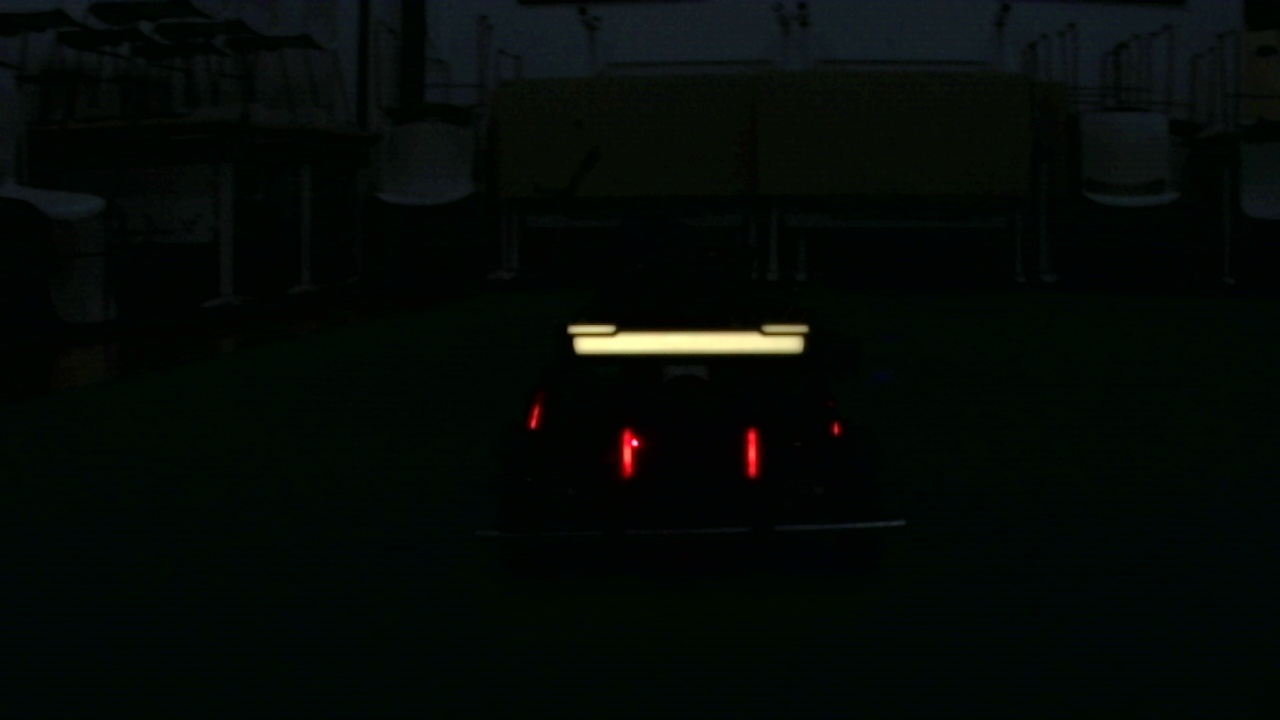lamp: (617, 431, 640, 478), (744, 425, 762, 475)
pair1: (617, 431, 761, 483)
